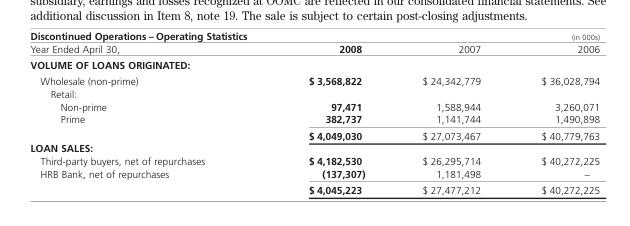table: (29, 29, 599, 195)
table column: (29, 29, 277, 195), (393, 29, 510, 195), (277, 29, 393, 195), (510, 29, 599, 195)
table column header: (29, 29, 599, 56)
table projected row header: (29, 56, 599, 72), (29, 141, 599, 154)
table row: (29, 29, 599, 56), (29, 87, 599, 112), (29, 56, 599, 72), (29, 72, 599, 87), (29, 126, 599, 141), (29, 166, 599, 181), (29, 112, 599, 126), (29, 181, 599, 195), (29, 141, 599, 154), (29, 154, 599, 166)
